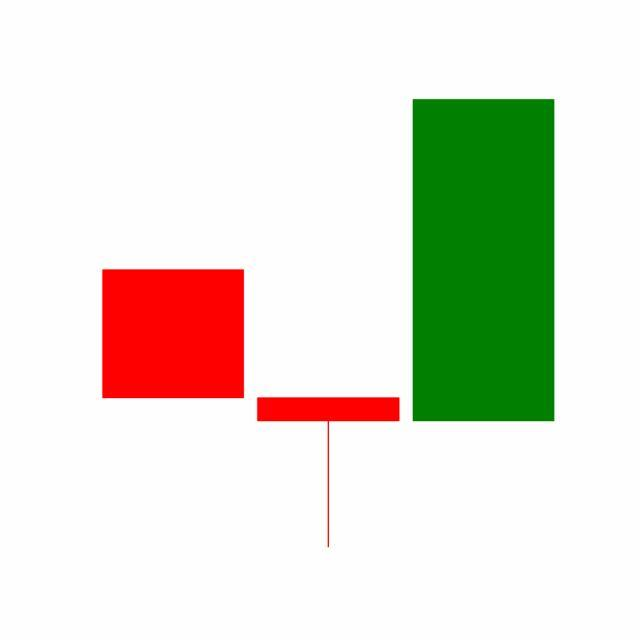Dragonfly Doji: (250, 397, 407, 550)
